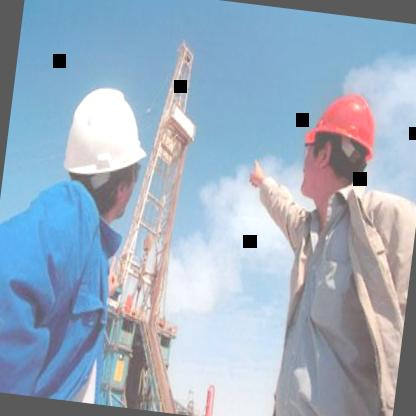helmet: (51, 68, 160, 226), (294, 75, 390, 214)
